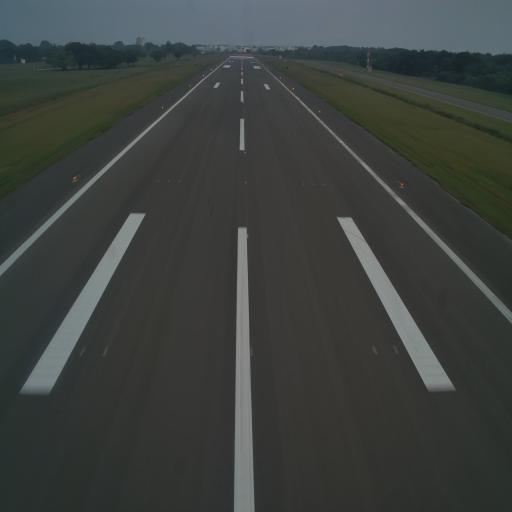off: (390, 340, 402, 362), (79, 342, 89, 362), (370, 342, 381, 359), (101, 343, 110, 360), (154, 174, 161, 188), (310, 179, 316, 190), (176, 176, 181, 186), (301, 178, 306, 188), (166, 176, 172, 184), (321, 181, 326, 190)
on: (398, 178, 406, 192), (71, 173, 78, 185), (245, 228, 250, 240), (242, 147, 248, 157), (243, 177, 248, 187)
